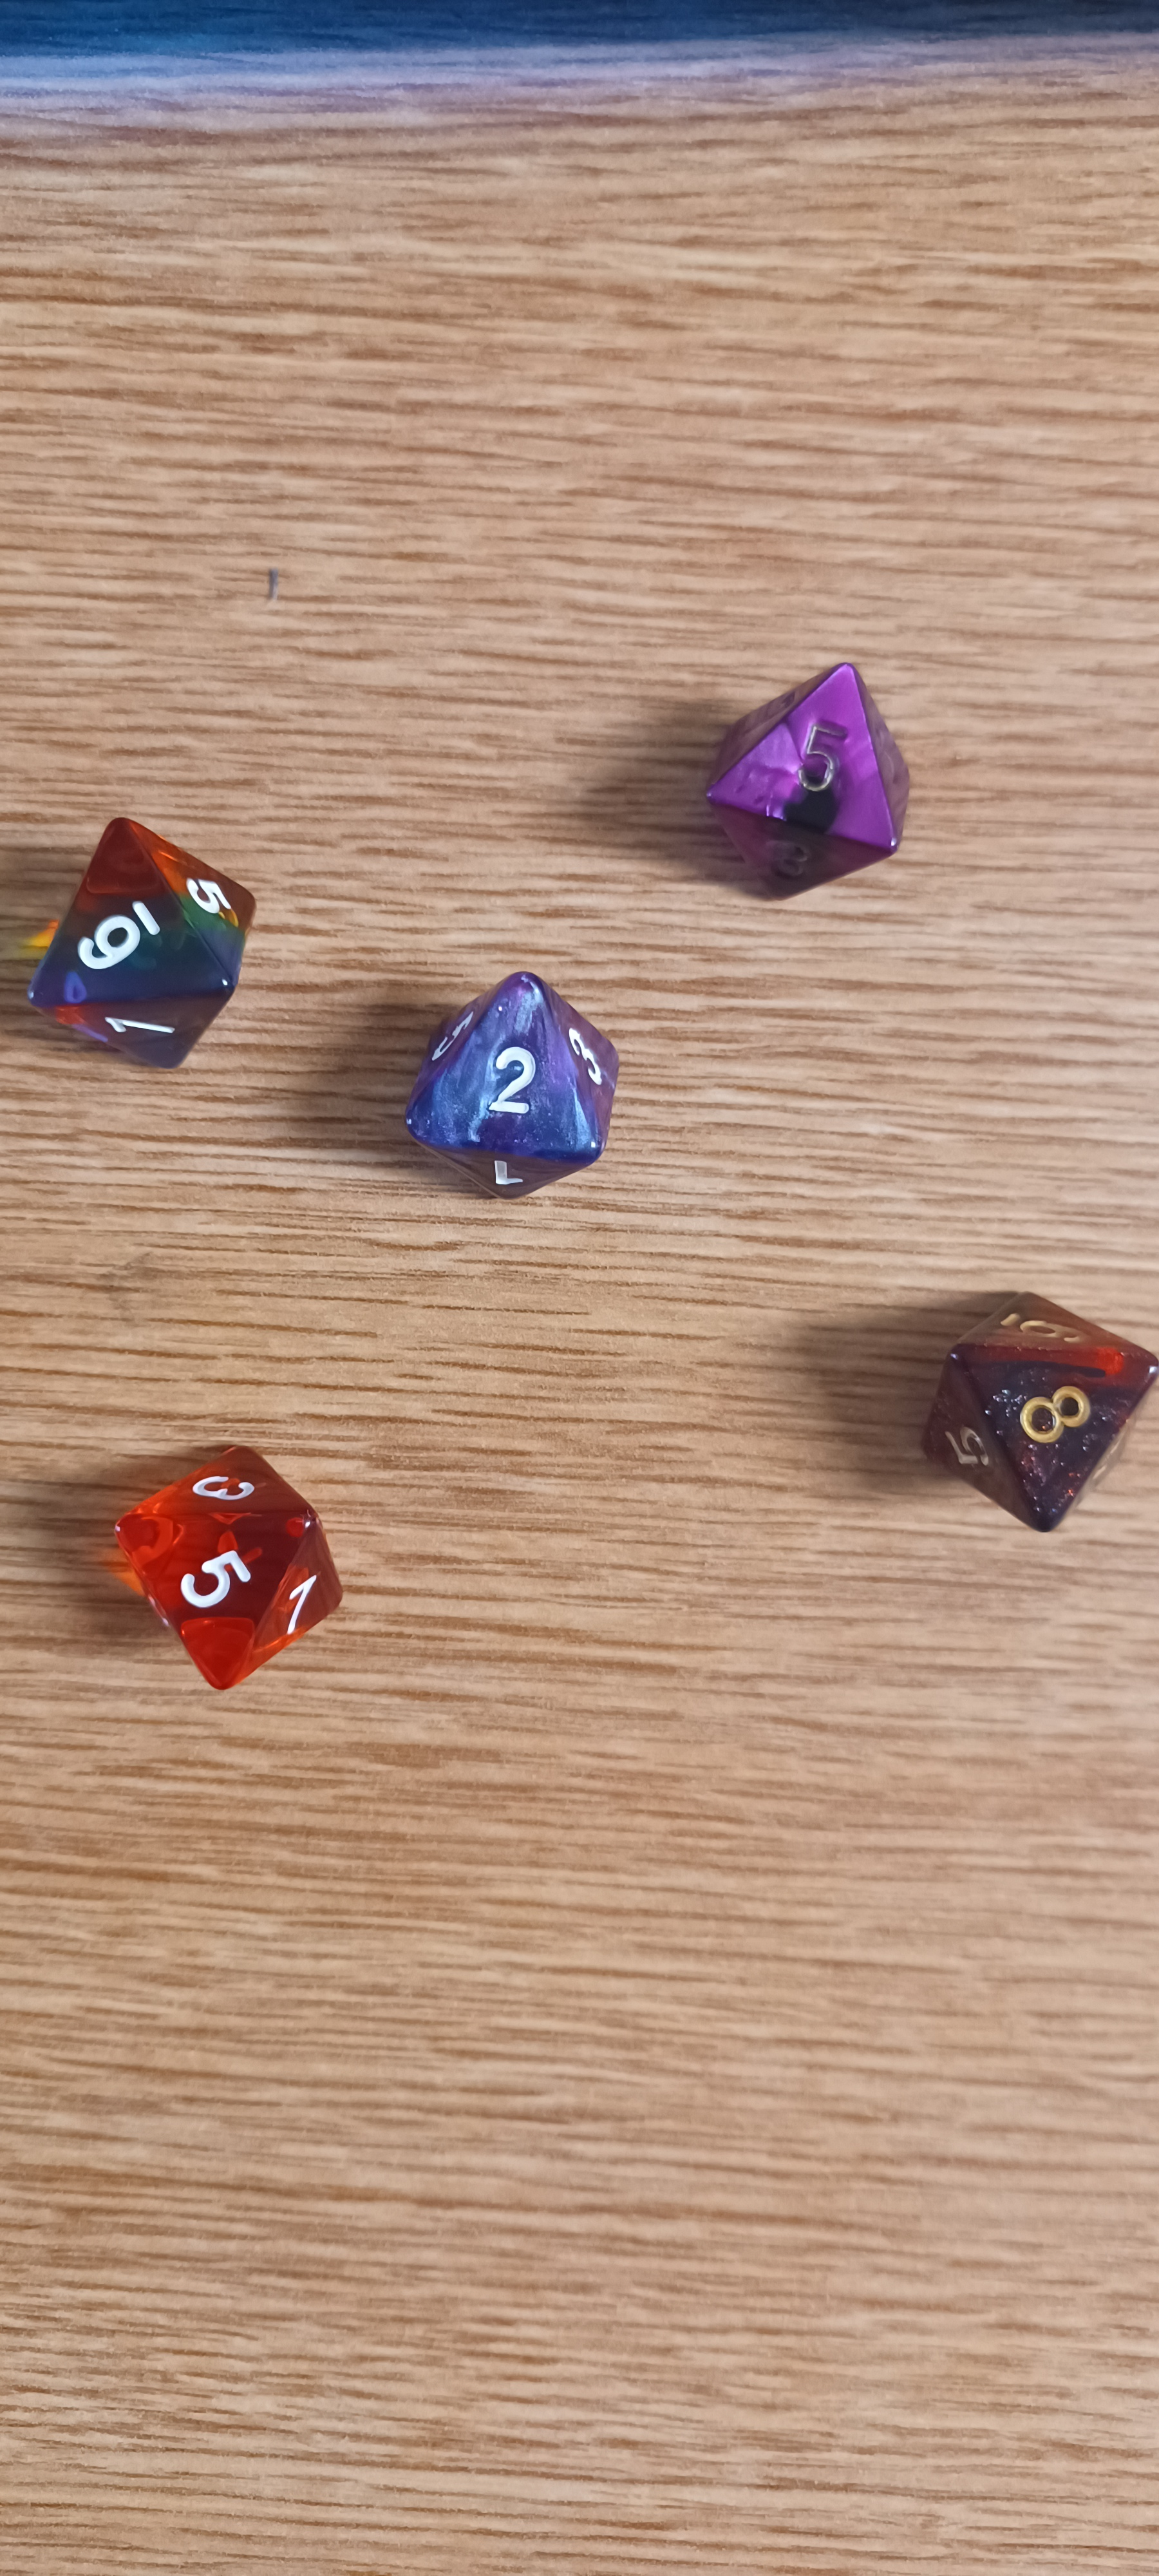eight: (891, 1245, 1159, 1543)
five: (82, 1423, 373, 1705), (685, 632, 939, 922)
six: (23, 792, 287, 1091)
two: (371, 915, 667, 1234)
